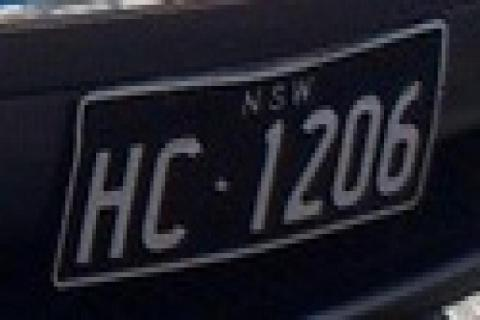LicensePlate: (25, 12, 467, 296)
